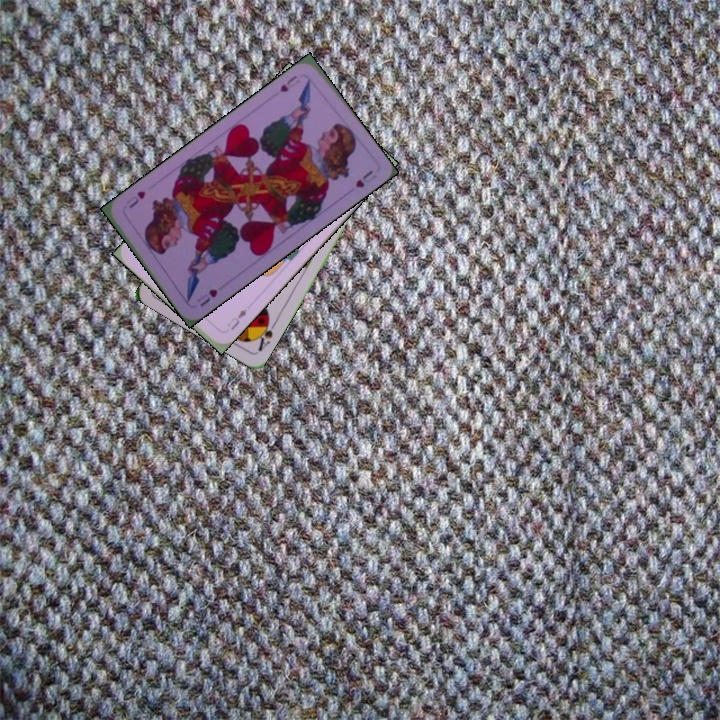EU: (223, 305, 250, 333)
HU: (192, 285, 220, 310), (275, 71, 303, 95)
SA: (251, 314, 279, 354)
